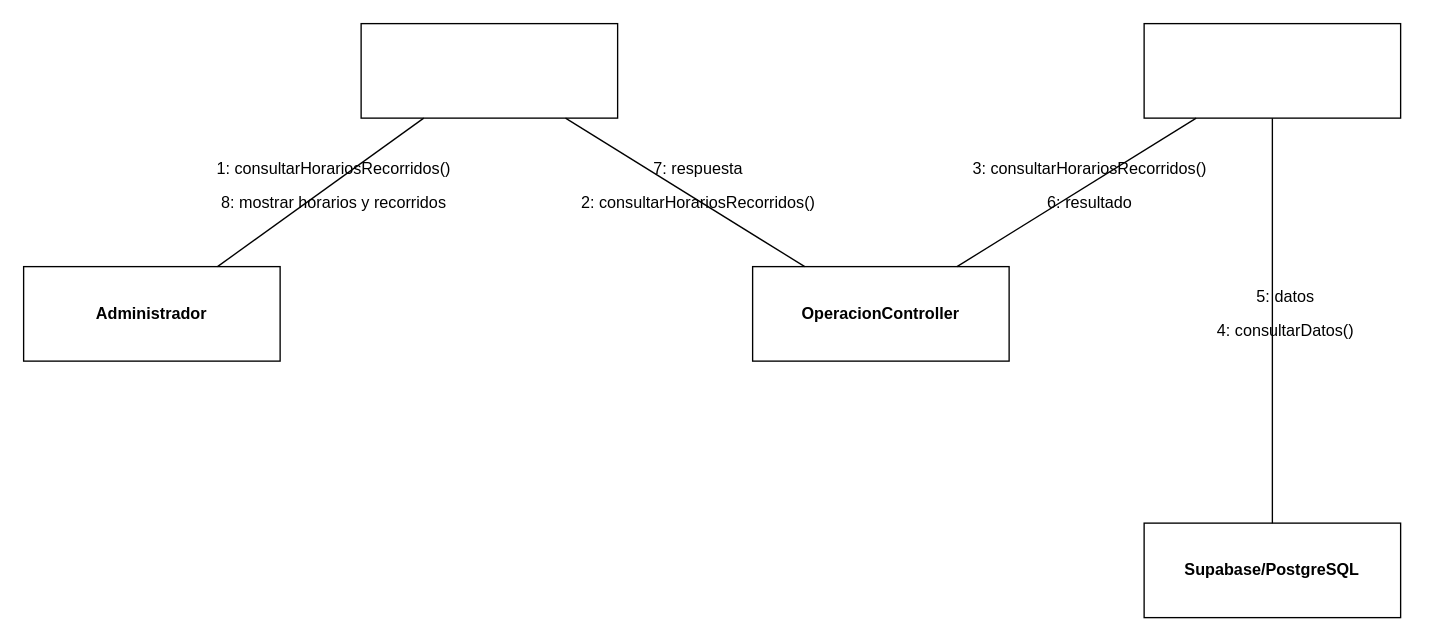
The diagram is 1451 pixels wide and 641 high, and some of its shapes have lost their labels. Each missing label, with the box of its shape:
Interfaz Administrativa: (360, 22, 618, 118)
Recorrido: (1143, 22, 1401, 118)
